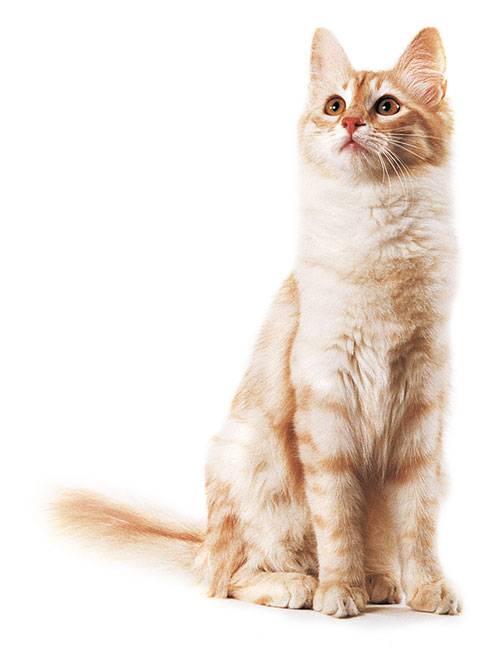cat: (45, 21, 475, 628)
cat-face: (285, 20, 463, 192)
